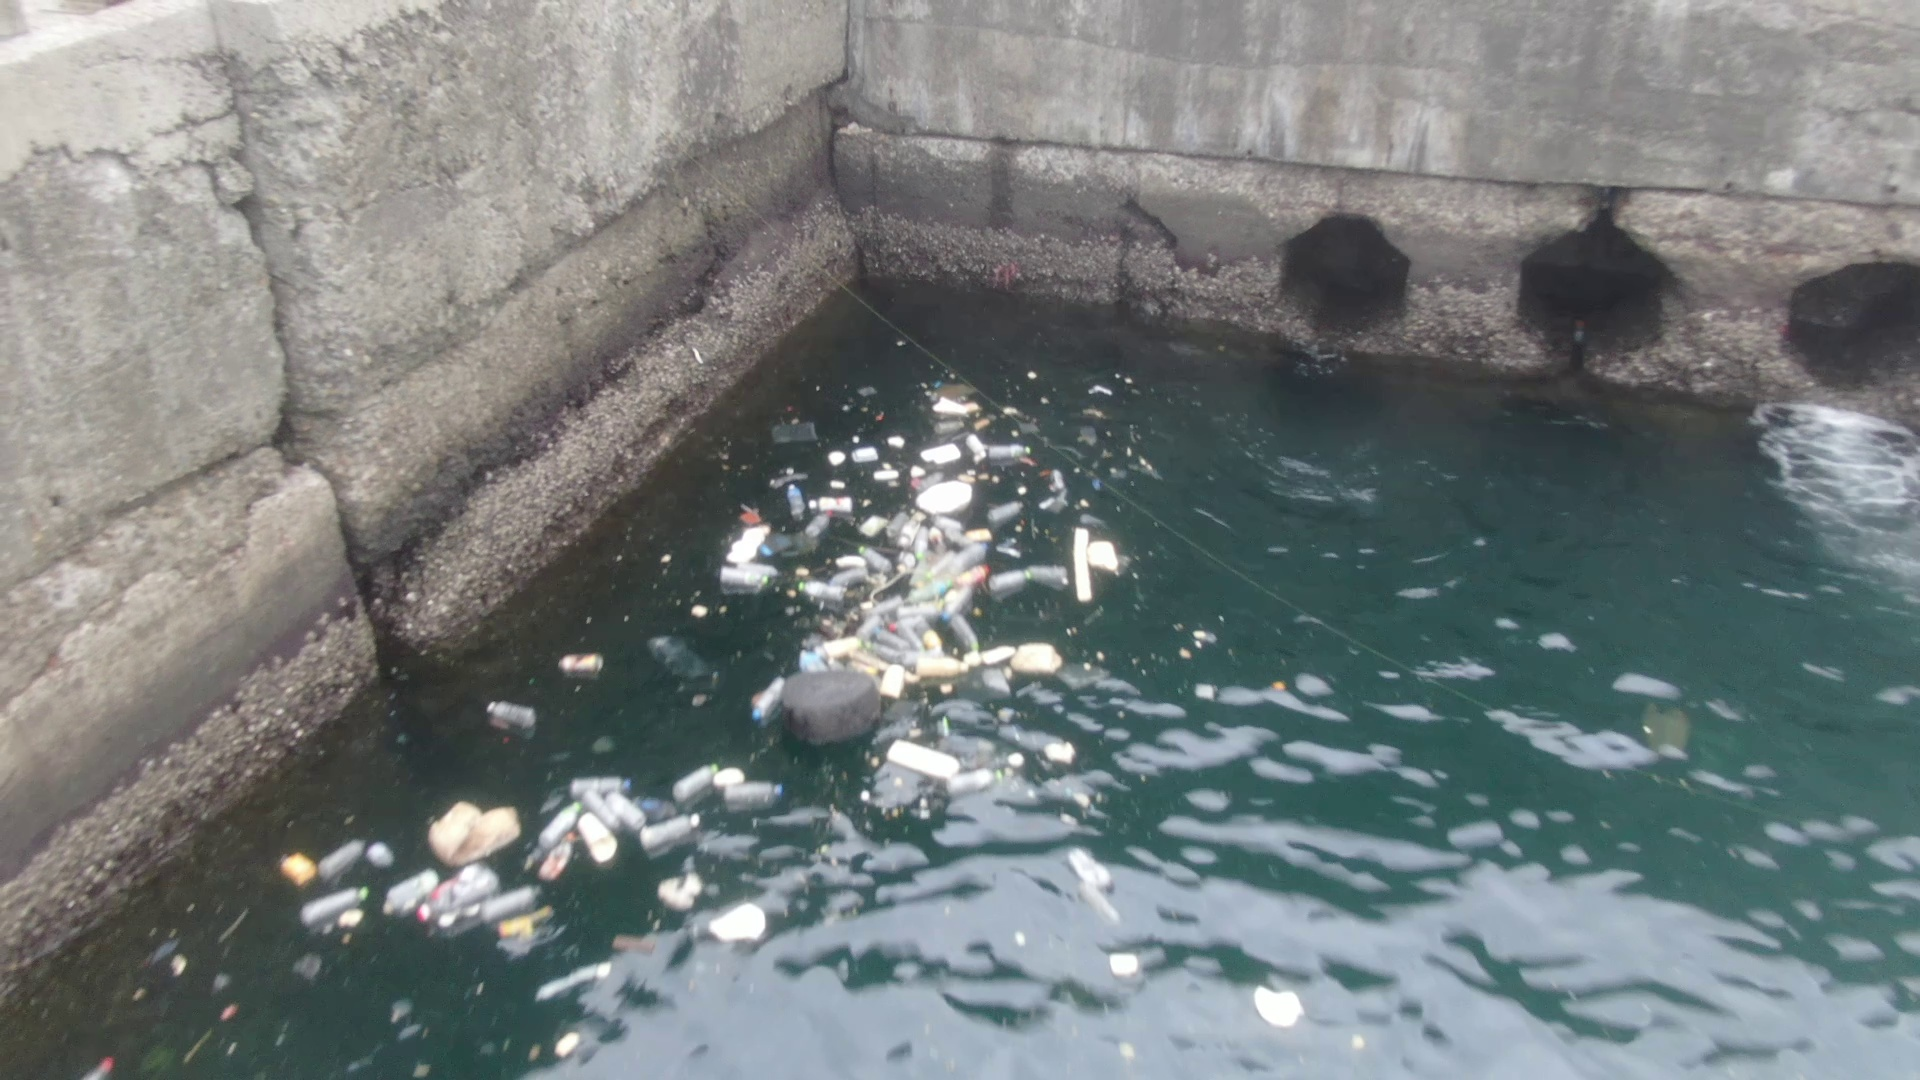bottle: (289, 881, 375, 927), (421, 866, 498, 916), (483, 872, 553, 926), (661, 752, 721, 808), (709, 775, 796, 810), (637, 810, 712, 849), (382, 865, 439, 916), (489, 690, 545, 736), (748, 673, 789, 735), (534, 831, 580, 885), (535, 799, 591, 840), (562, 774, 644, 796), (559, 642, 611, 676)
garbage: (702, 352, 1178, 783), (204, 740, 823, 1001)
